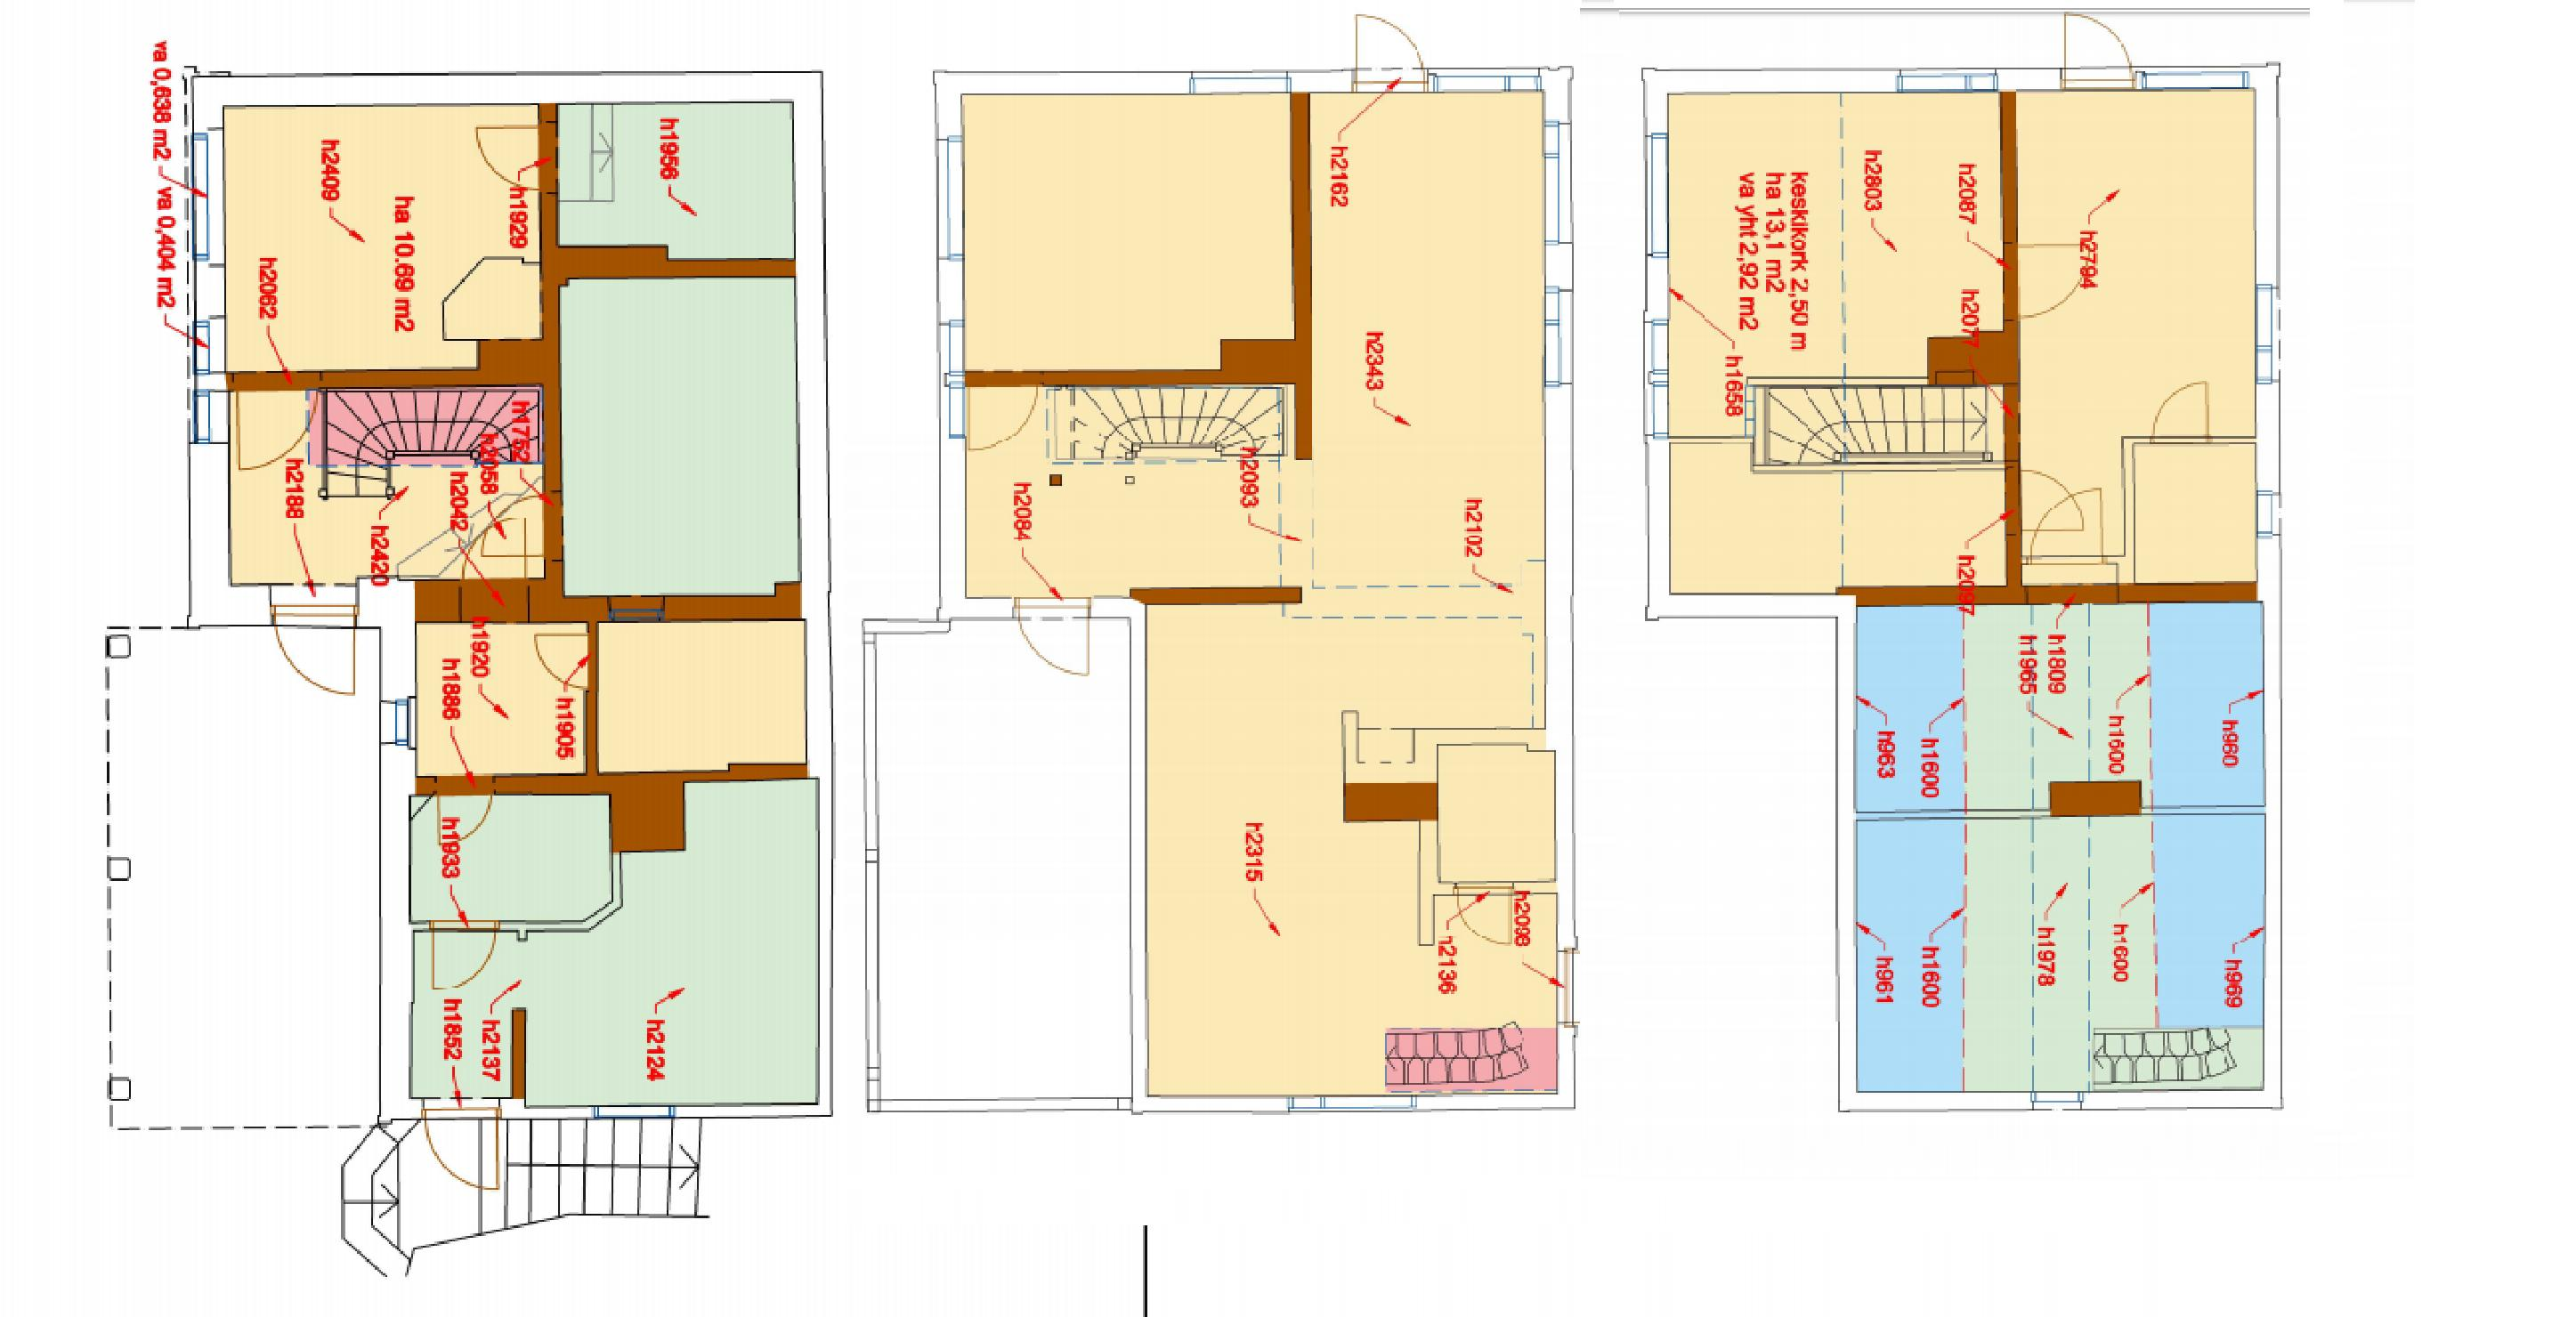door: (227, 388, 329, 475), (272, 605, 359, 702), (1353, 13, 1446, 102), (1019, 586, 1103, 679), (2034, 479, 2104, 563), (521, 627, 599, 700), (2067, 13, 2141, 91), (2008, 249, 2094, 314), (475, 522, 559, 583), (972, 380, 1046, 447), (425, 921, 502, 984), (474, 123, 536, 202), (438, 784, 505, 848), (2012, 474, 2086, 529), (1454, 880, 1520, 942), (2156, 381, 2218, 437)
window: (183, 134, 222, 275), (939, 136, 967, 274), (2136, 60, 2250, 91), (1649, 323, 1676, 445), (1540, 287, 1573, 385), (1199, 69, 1301, 101), (1441, 72, 1537, 102), (1286, 1087, 1409, 1110), (942, 319, 969, 425), (2255, 279, 2279, 391), (1649, 136, 1671, 257), (1891, 69, 1998, 92), (188, 331, 207, 437), (1547, 113, 1575, 160), (2255, 494, 2282, 536)
zone: (969, 87, 1562, 1089), (1857, 608, 2259, 1087), (1676, 81, 2015, 590), (113, 630, 385, 1124), (421, 790, 813, 1100), (885, 622, 1137, 1100), (2015, 94, 2264, 578), (967, 84, 1296, 368), (225, 101, 546, 370), (554, 279, 801, 605), (961, 376, 1306, 586), (225, 378, 541, 578), (589, 615, 813, 776), (566, 106, 794, 262), (428, 615, 583, 774), (2129, 423, 2254, 581)
